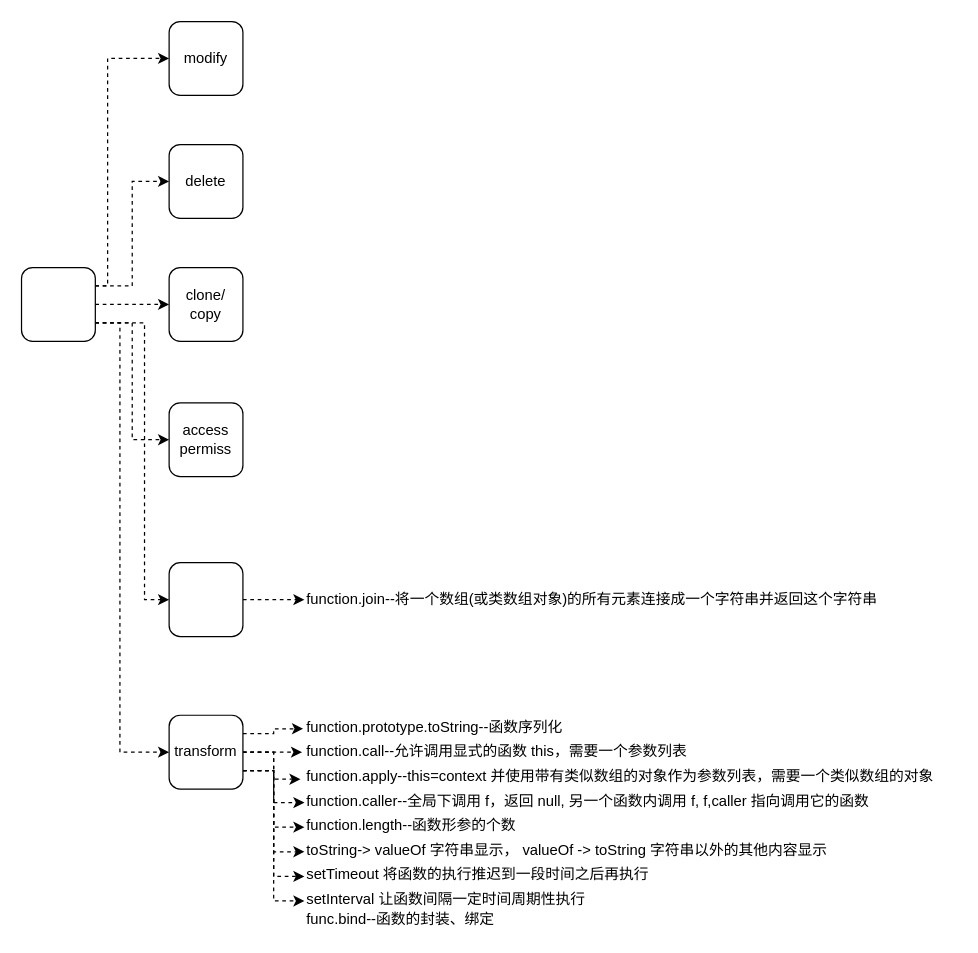
Some shapes in this 978 by 953 pixel diagram are drawn without their labels. The shapes that lost their labels are listed below. From the top down, each one's centre as x and y in pixels, then its label:
[57,303]: Function
[205,599]: traversals
